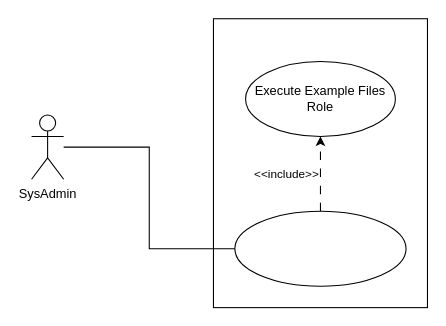
Some shapes in this 446 by 326 pixel diagram are drawn without their labels. The shapes that lost their labels are listed below. From the top down, each one's box as (x1, y1, x2, y2) in pixels, then its label:
(212, 18, 427, 308): Example Project Installation
(234, 210, 406, 286): Execute Example Project Playbook
